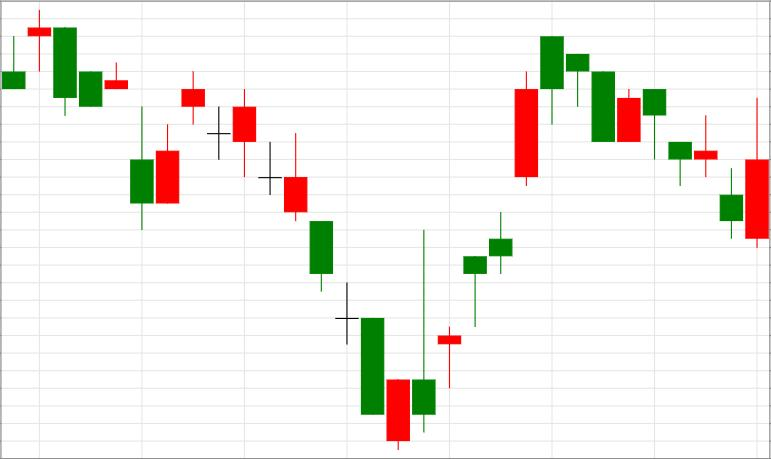bullish_engulfing_rise: (541, 37, 770, 248)
inverse_hammer_rise: (234, 90, 436, 449)
